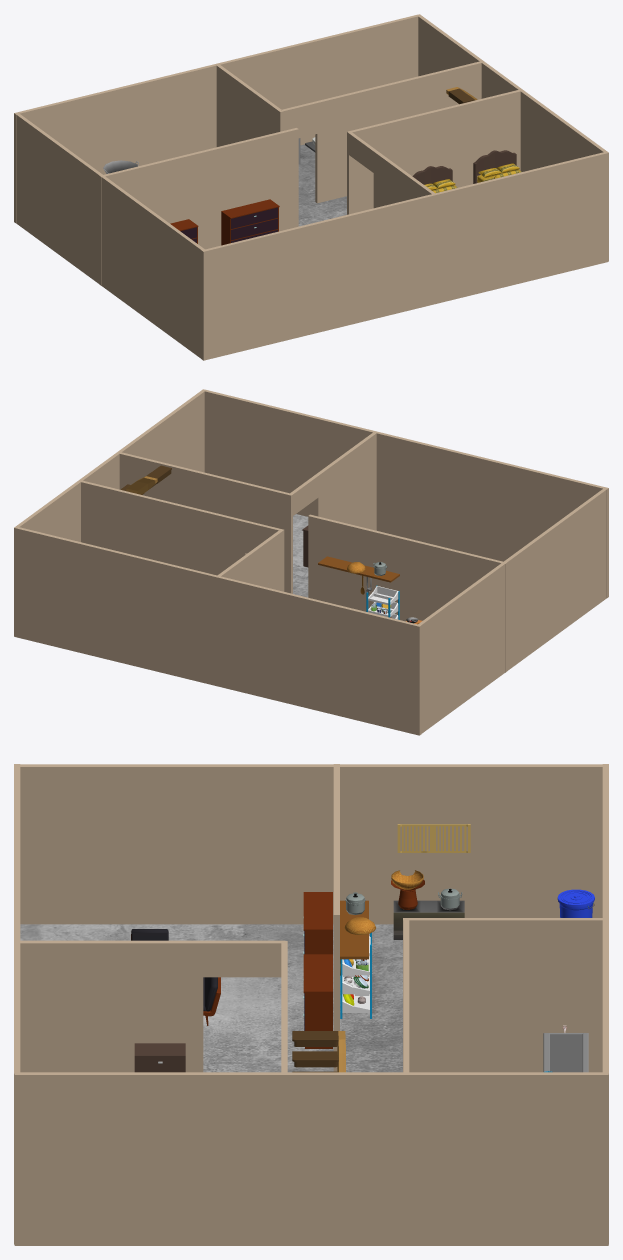
Rendered from interiorrevised.fbx.
3 views of the same model, one above another, from view 1: azimuth 30°, elevation 25°; view 2: azimuth 150°, elevation 25°; view 3: azimuth 270°, elevation 25° (orthographic). The views are drawn at different scales.
Visible parts, largest first — view 1: sekat 1.001, sekat 1.002, sekat 1.003, sekat 1, sekat 3, sekat 5, sekat 1.004, sekat 4, sekat 2, kabinet besar, lantai, dipan (+1 smaller); view 2: sekat 1.002, sekat 1.001, sekat 1.003, sekat 1, sekat 5, sekat 1.004, sekat 3, sekat 2, sekat 4, lantai, rak kaki, ambalan dapur (+1 smaller); view 3: sekat 1.004, sekat 1.003, sekat 4, sekat 2, lantai, sekat 1.001, kabinet besar, sekat 1.002, tangga dalam, sekat 1, kabinet besar.002, bak mandi (+9 smaller).
Boxes of the visible parts, <box> form: sekat 1.001: <box>201,151,607,360</box>; sekat 1.002: <box>14,14,419,222</box>; sekat 1.003: <box>14,112,206,358</box>; sekat 1: <box>99,128,298,285</box>; sekat 3: <box>347,90,520,214</box>; sekat 5: <box>281,61,484,203</box>; sekat 1.004: <box>417,14,608,261</box>; sekat 4: <box>215,63,283,146</box>; sekat 2: <box>347,131,436,208</box>; kabinet besar: <box>221,199,279,245</box>; lantai: <box>298,144,346,226</box>; dipan: <box>473,150,516,183</box>; sekat 1.002: <box>15,526,421,735</box>; sekat 1.001: <box>203,389,608,597</box>; sekat 1.003: <box>416,488,608,733</box>; sekat 1: <box>308,514,507,672</box>; sekat 5: <box>78,480,281,575</box>; sekat 1.004: <box>14,389,204,636</box>; sekat 3: <box>119,452,292,593</box>; sekat 2: <box>289,431,377,530</box>; sekat 4: <box>217,529,284,591</box>; lantai: <box>293,514,308,597</box>; rak kaki: <box>366,585,399,619</box>; ambalan dapur: <box>318,556,399,582</box>; sekat 1.004: <box>14,1072,608,1245</box>; sekat 1.003: <box>15,764,608,924</box>; sekat 4: <box>403,918,602,1072</box>; sekat 2: <box>16,940,285,1072</box>; lantai: <box>20,924,402,1072</box>; sekat 1.001: <box>14,764,20,1244</box>; kabinet besar: <box>303,954,332,1048</box>; sekat 1.002: <box>602,764,608,1244</box>; tangga dalam: <box>292,1031,345,1072</box>; sekat 1: <box>333,764,339,1071</box>; kabinet besar.002: <box>303,892,332,954</box>; bak mandi: <box>543,1033,588,1072</box>.
Bounding box in the file's own units: 2361 × 606 × 1910.
